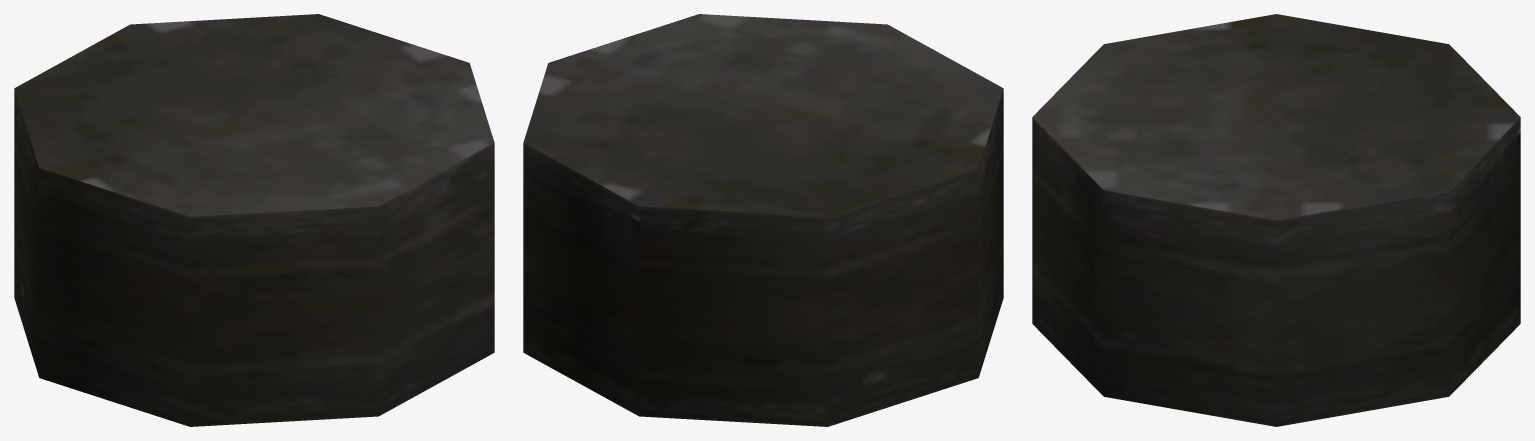
The model's file is tesla_dressing_metaldetails_02_cap.dae.
The picture shows the model from 3 angles, left to right: view 1: azimuth 30°, elevation 25°; view 2: azimuth 150°, elevation 25°; view 3: azimuth 270°, elevation 25°; orthographic projection.
Parts seen in each view (by area): view 1: lp_pipe_junction3; view 2: lp_pipe_junction3; view 3: lp_pipe_junction3.
Boxes of the visible parts, bbox=[...] form: lp_pipe_junction3: bbox=[14, 14, 494, 426]; lp_pipe_junction3: bbox=[523, 14, 1003, 426]; lp_pipe_junction3: bbox=[1032, 14, 1520, 426].
Bounding box in the file's own units: 28.87 × 13.46 × 28.87.
